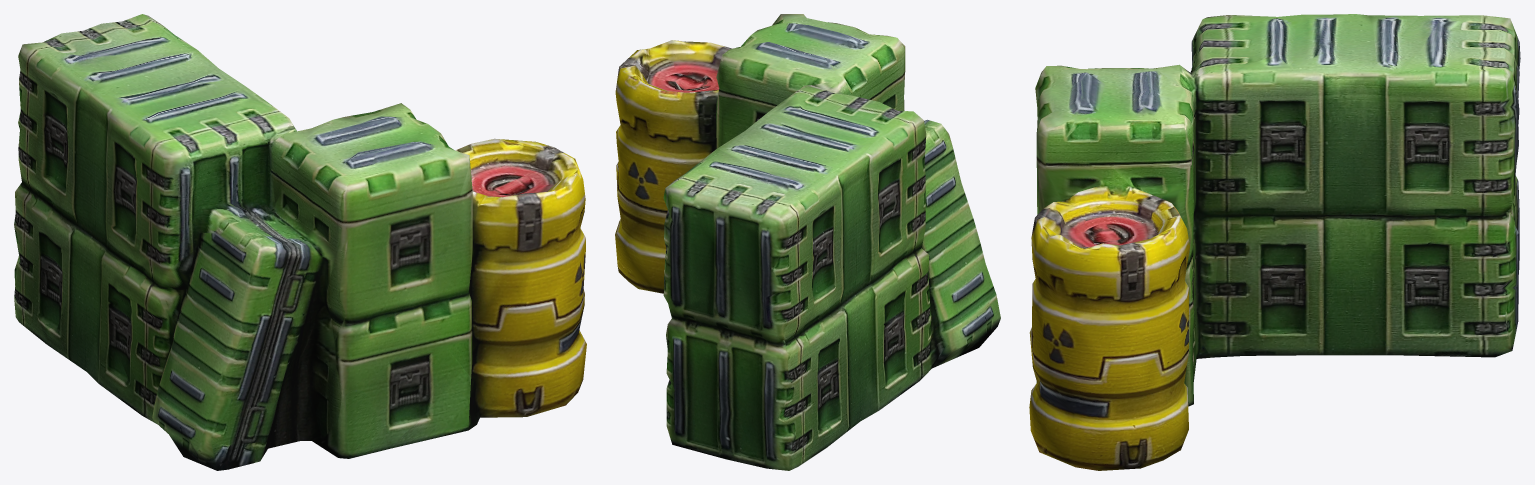
The model's file is supplies-size-2.glb.
3 views of the same model, side by side, from view 1: azimuth 30°, elevation 25°; view 2: azimuth 150°, elevation 25°; view 3: azimuth 270°, elevation 25° (orthographic). The views are drawn at different scales.
Parts seen in each view (by area): view 1: Military_supplies_3; view 2: Military_supplies_3; view 3: Military_supplies_3.
Boxes of the visible parts, x1=… form: Military_supplies_3: x1=14, y1=14, x2=586, y2=470; Military_supplies_3: x1=615, y1=14, x2=1000, y2=470; Military_supplies_3: x1=1029, y1=14, x2=1520, y2=470.
Size of the model in its own units: 2.61 by 1.79 by 2.76.
1 material, 1 textured.
